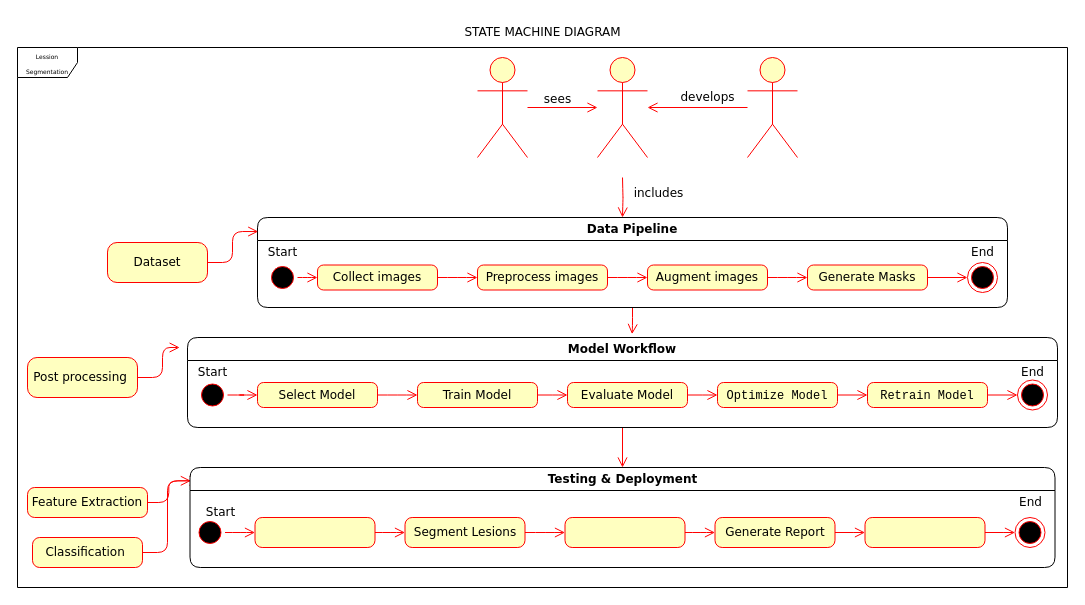
The diagram is 1085 pixels wide and 605 high, and some of its shapes have lost their labels. Here are the shapes that lost their labels. From the top down, the centre of each, then its label:
At (502,107): "Researcher".
At (622,107): "System".
At (772,107): "Developer".
At (314,532): "Test On Unseen Data".
At (624,532): "Visualize Results".
At (924,532): "Deploy Model".
